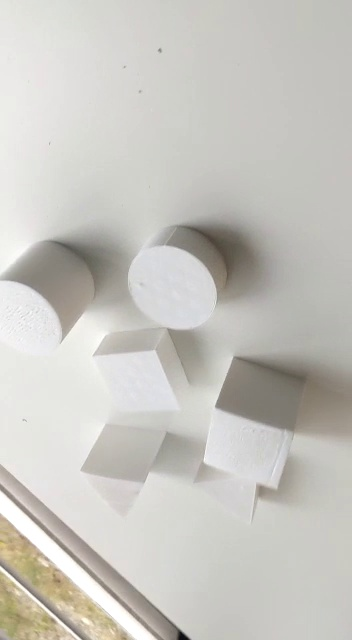Clyinder_short: (122, 223, 230, 332)
Cube: (204, 356, 309, 492)
Cube_short: (95, 329, 194, 417)
Cylinder: (1, 240, 102, 358)
Triangle: (80, 421, 164, 527)
Triangle_short: (187, 444, 267, 529)
